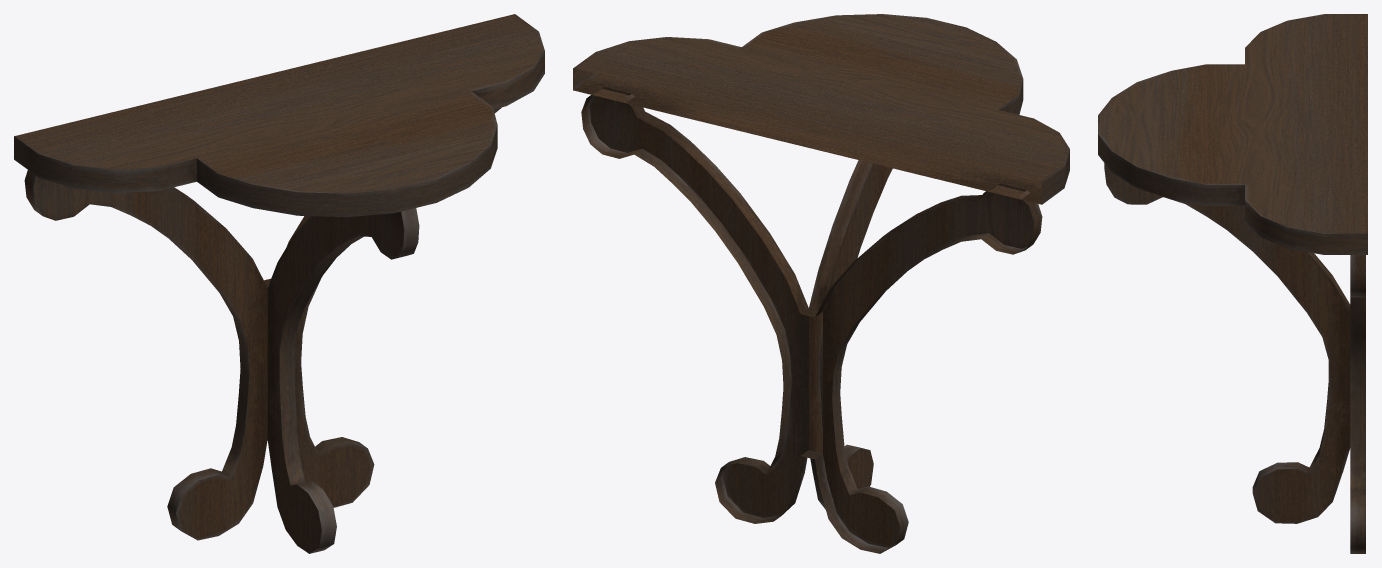
Rendered from shelf.FBX.
3 renders of one model, left to right at view 1: azimuth 30°, elevation 25°; view 2: azimuth 150°, elevation 25°; view 3: azimuth 270°, elevation 25°, orthographic. The views are drawn at different scales.
Visible parts, largest first — view 1: shelf; view 2: shelf; view 3: shelf.
Part boxes in pixels (left/top/right/bottom): shelf: left=14, top=14, right=544, bottom=553; shelf: left=573, top=14, right=1069, bottom=553; shelf: left=1098, top=14, right=1367, bottom=553.
Size of the model in its own units: 0.2363 by 0.1984 by 0.1225.
1 material, 1 textured.
